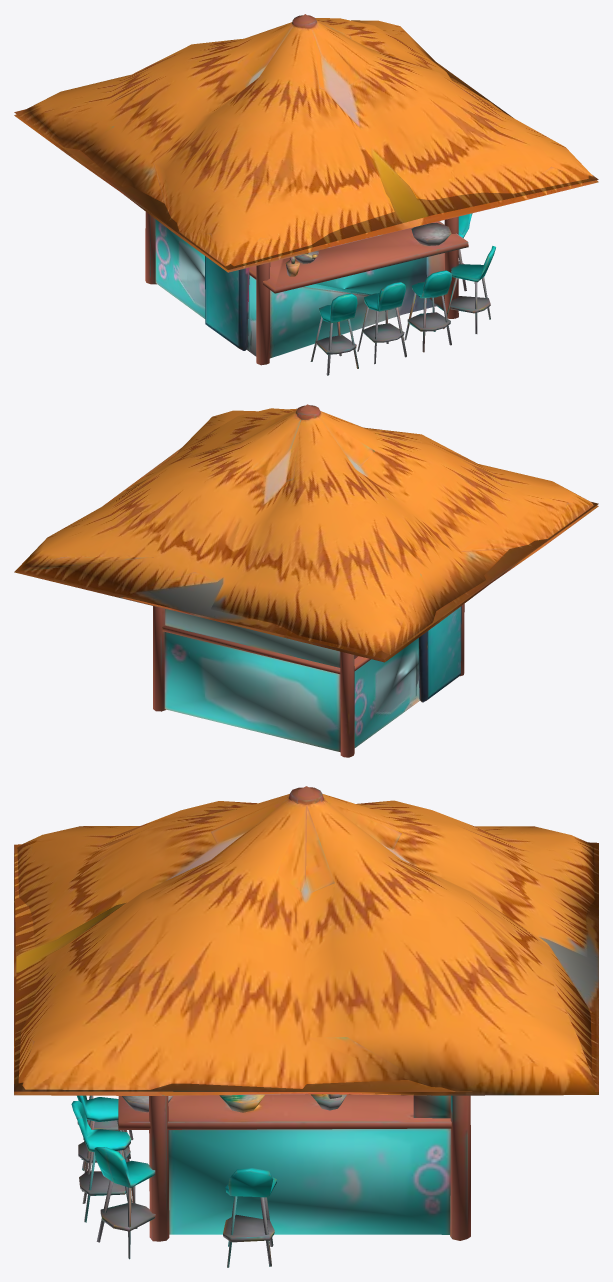
Rendered from beach_bar.glb.
The picture shows the model from 3 angles, top to bottom: view 1: azimuth 30°, elevation 25°; view 2: azimuth 150°, elevation 25°; view 3: azimuth 270°, elevation 25°; orthographic projection. The views are drawn at different scales.
Bounding box in the file's own units: 1 × 0.7424 × 1.
1 material, 1 textured.
